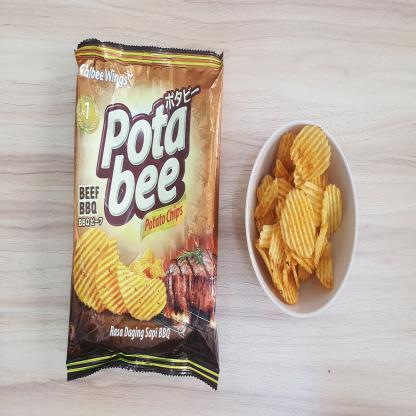potatochip: (64, 30, 227, 397)
